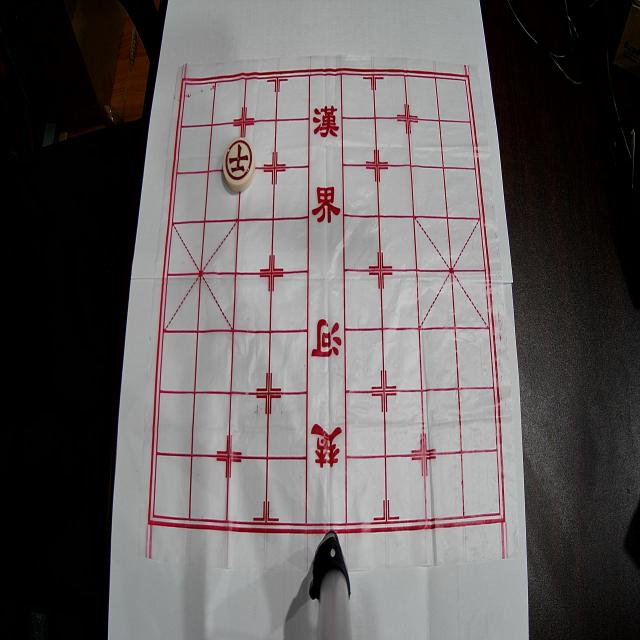red-guard: (223, 137, 255, 192)
